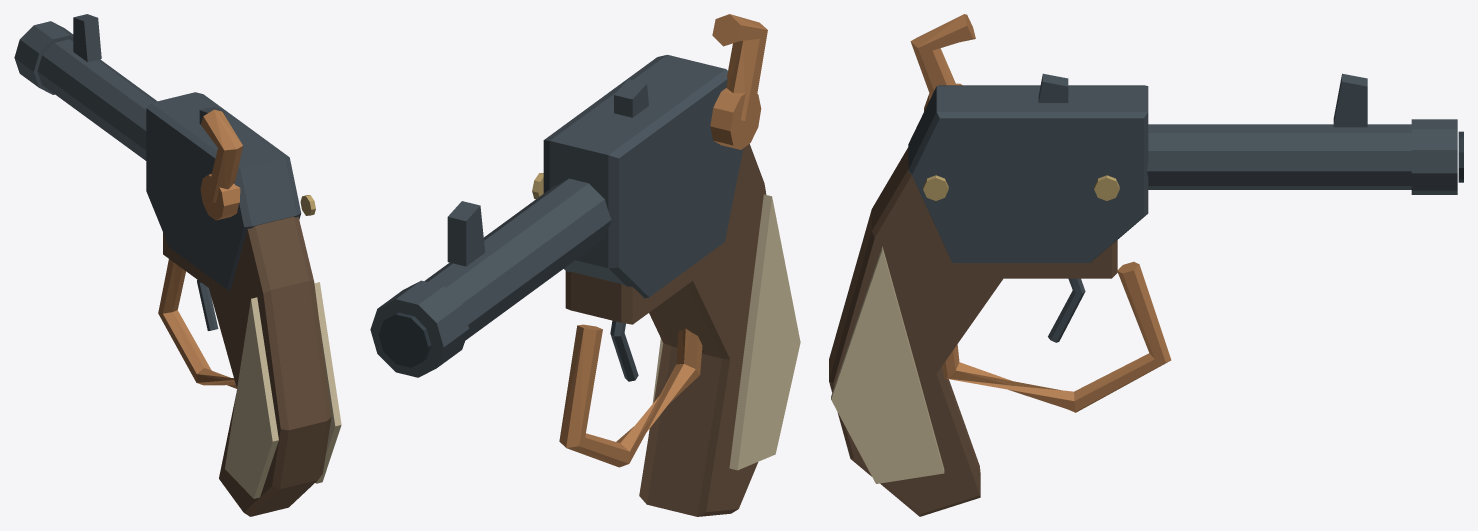
The model's file is AEW_Pistol_DuelOath.fbx.
3 views of the same model, side by side, from view 1: azimuth 30°, elevation 25°; view 2: azimuth 150°, elevation 25°; view 3: azimuth 270°, elevation 25° (orthographic). The views are drawn at different scales.
Parts seen in each view (by area): view 1: AEW_Pistol_DuelOath; view 2: AEW_Pistol_DuelOath; view 3: AEW_Pistol_DuelOath.
Part boxes in pixels (box(x1,y1,x2,y2)): AEW_Pistol_DuelOath: box(14, 14, 341, 516); AEW_Pistol_DuelOath: box(370, 14, 800, 516); AEW_Pistol_DuelOath: box(829, 14, 1463, 516).
Size of the model in its own units: 0.1201 by 0.4859 by 0.594.
